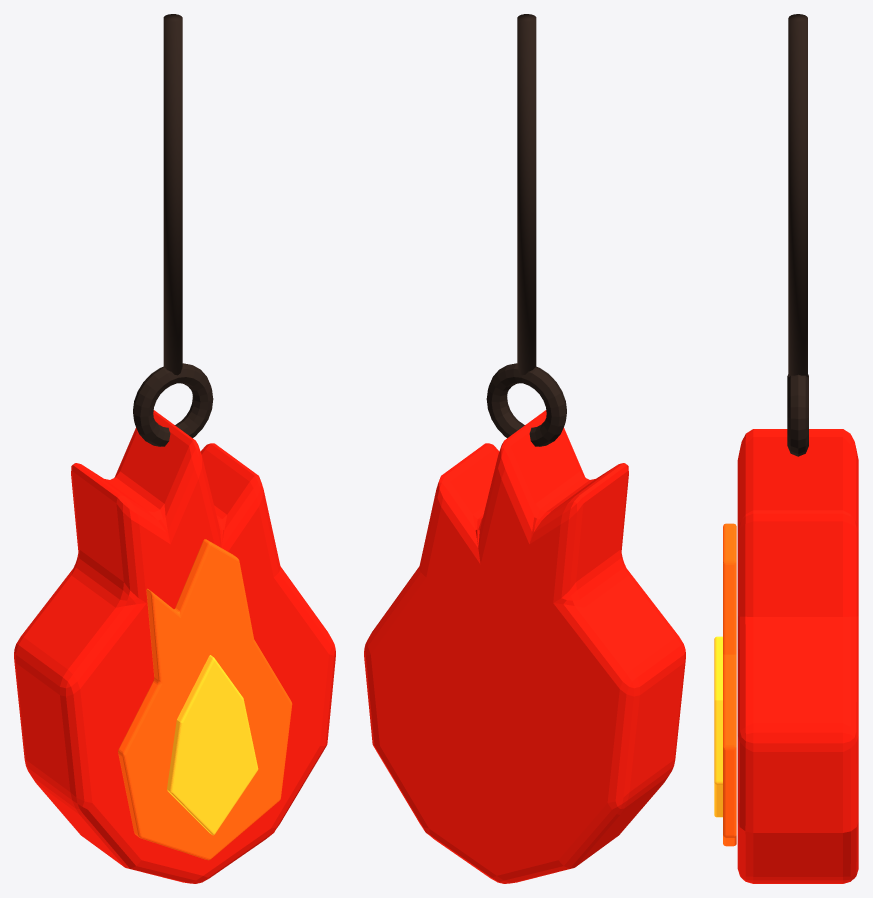
The model's file is dangle_fire.glb.
The picture shows the model from 3 angles, left to right: view 1: azimuth 30°, elevation 25°; view 2: azimuth 150°, elevation 25°; view 3: azimuth 270°, elevation 25°; orthographic projection.
Parts seen in each view (by area): view 1: Outer Flame Silhouette, Middle Flame, Hot Core, Mirror Cord, Fireball Hanging Ring; view 2: Outer Flame Silhouette, Mirror Cord, Fireball Hanging Ring; view 3: Outer Flame Silhouette, Mirror Cord, Middle Flame, Fireball Hanging Ring, Hot Core.
Part boxes in pixels (x1,y1,x2,y2): Outer Flame Silhouette: [14, 410, 335, 883]; Middle Flame: [118, 539, 292, 860]; Hot Core: [167, 655, 258, 835]; Mirror Cord: [163, 14, 182, 375]; Fireball Hanging Ring: [133, 363, 213, 446]; Outer Flame Silhouette: [364, 410, 685, 883]; Mirror Cord: [517, 14, 536, 375]; Fireball Hanging Ring: [486, 363, 566, 446]; Outer Flame Silhouette: [737, 429, 858, 883]; Mirror Cord: [788, 14, 807, 377]; Middle Flame: [723, 523, 736, 846]; Fireball Hanging Ring: [787, 374, 808, 456]; Hot Core: [714, 636, 722, 817].
Bounding box in the file's own units: 1.64 × 4.86 × 0.74.
